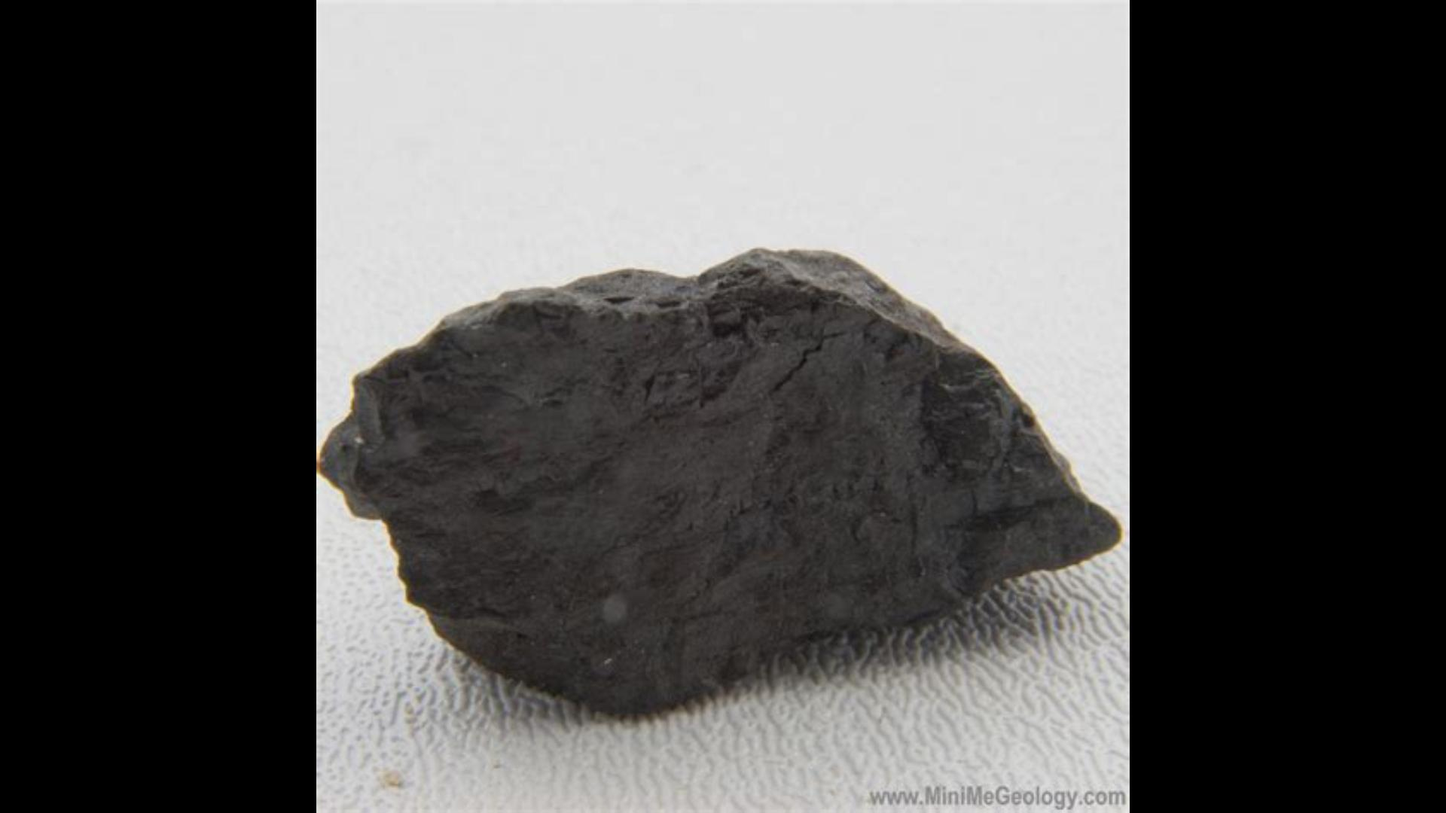rock: (320, 250, 1119, 712)
